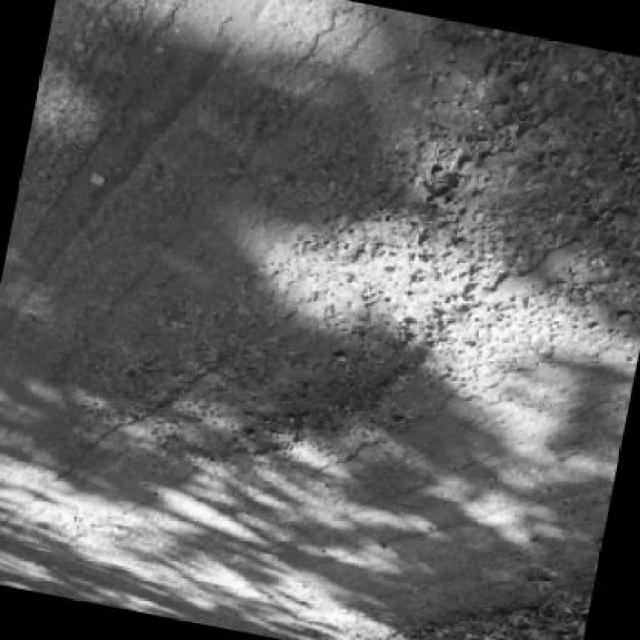pothole: (160, 286, 442, 497)
